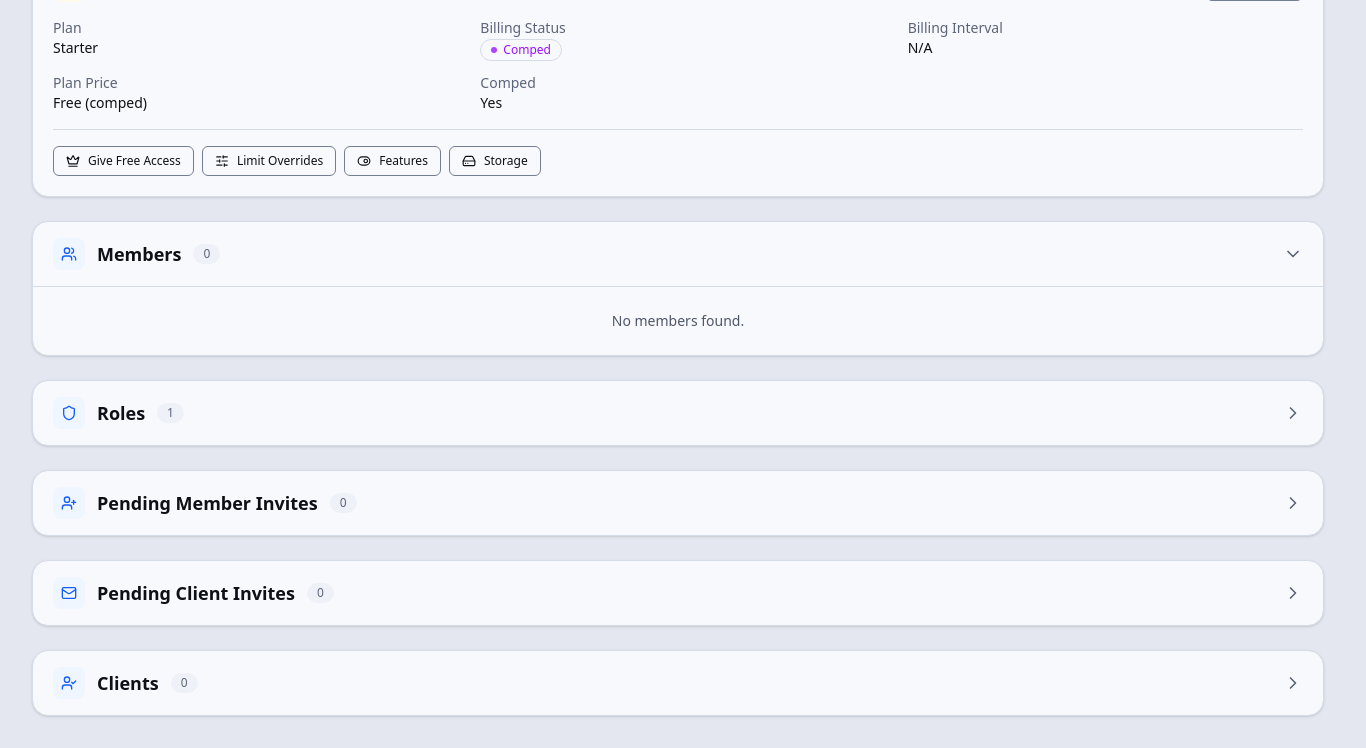
Test: admin firm detail role save › sends the implied reads and shows the normalized role after saving manage invoices
(page scrolled)
Click the button "Roles 1": (69, 413) [33, 381, 1323, 445]
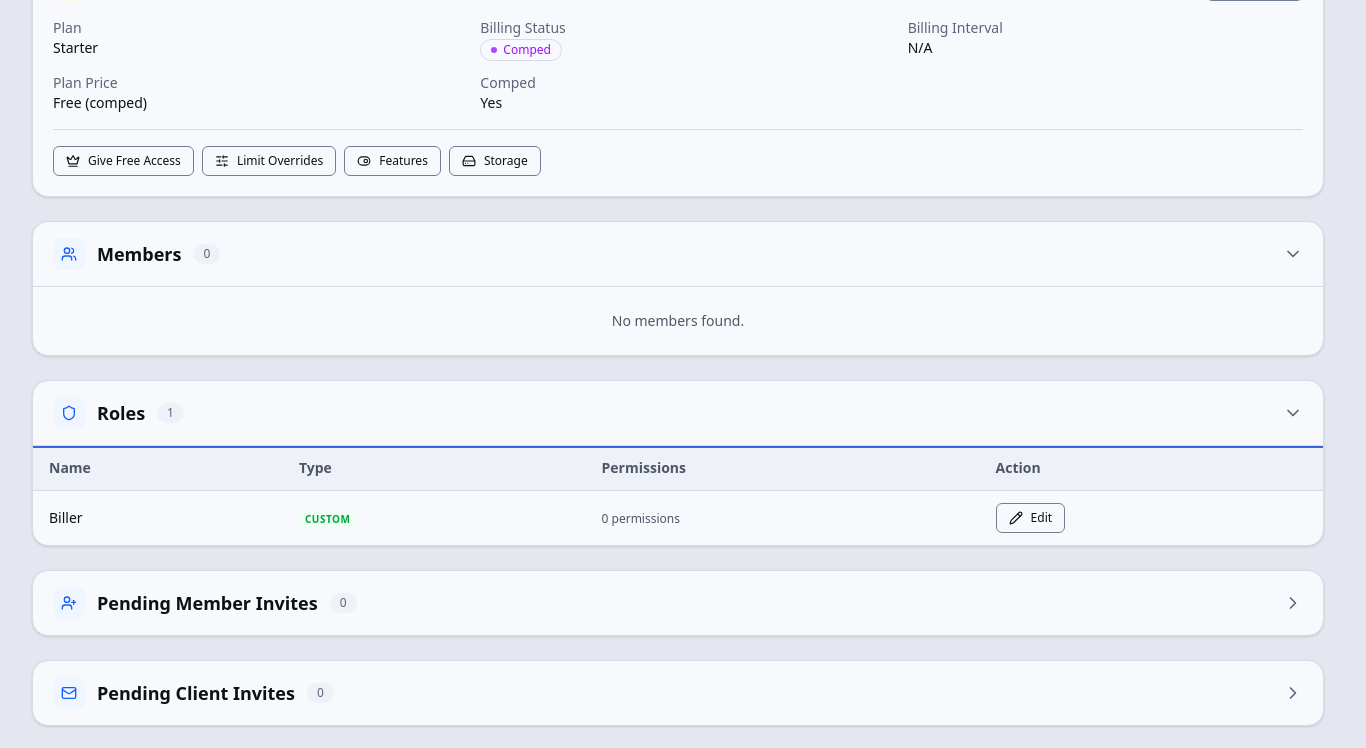
Now the text "0 permissions" is shown, box [602, 510, 680, 527]
Click the button "Edit": (1030, 518) [996, 503, 1065, 533]
(page scrolled)
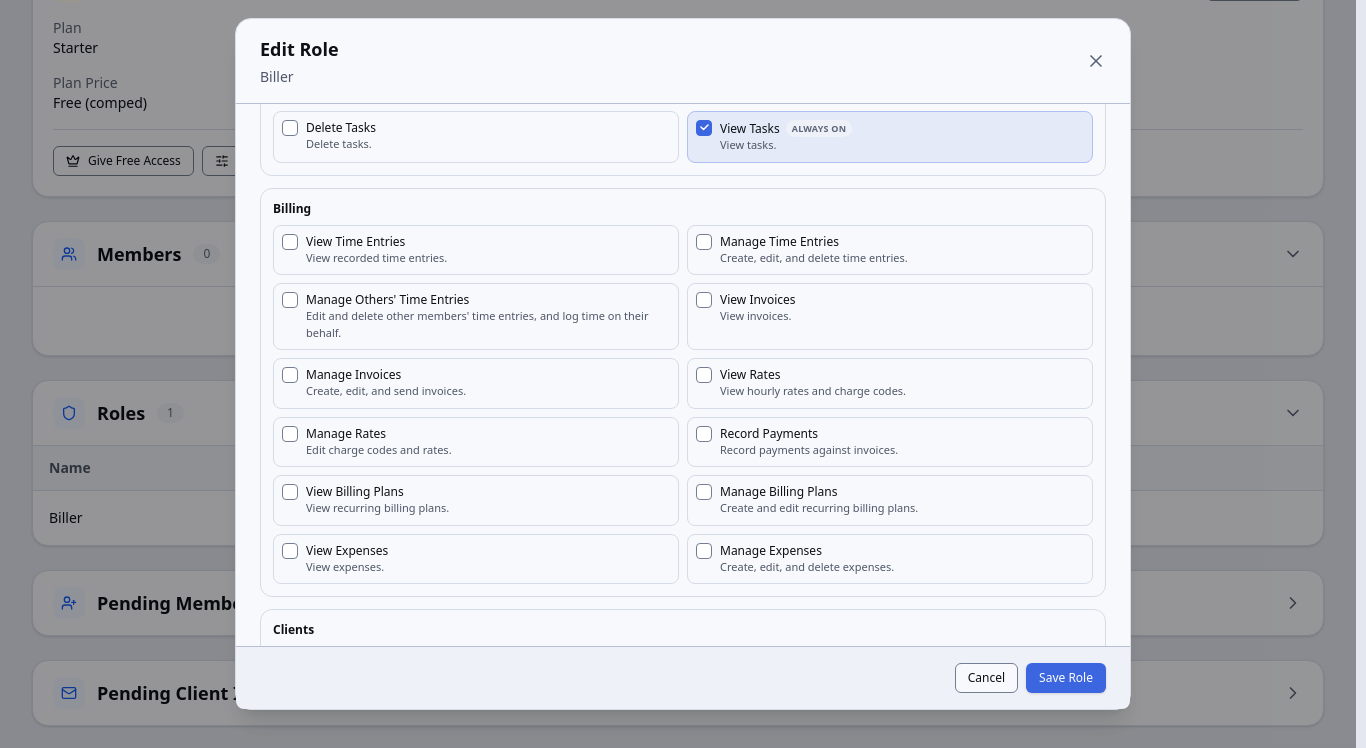
Click the text "Manage Invoices": (354, 375) [306, 367, 401, 383]
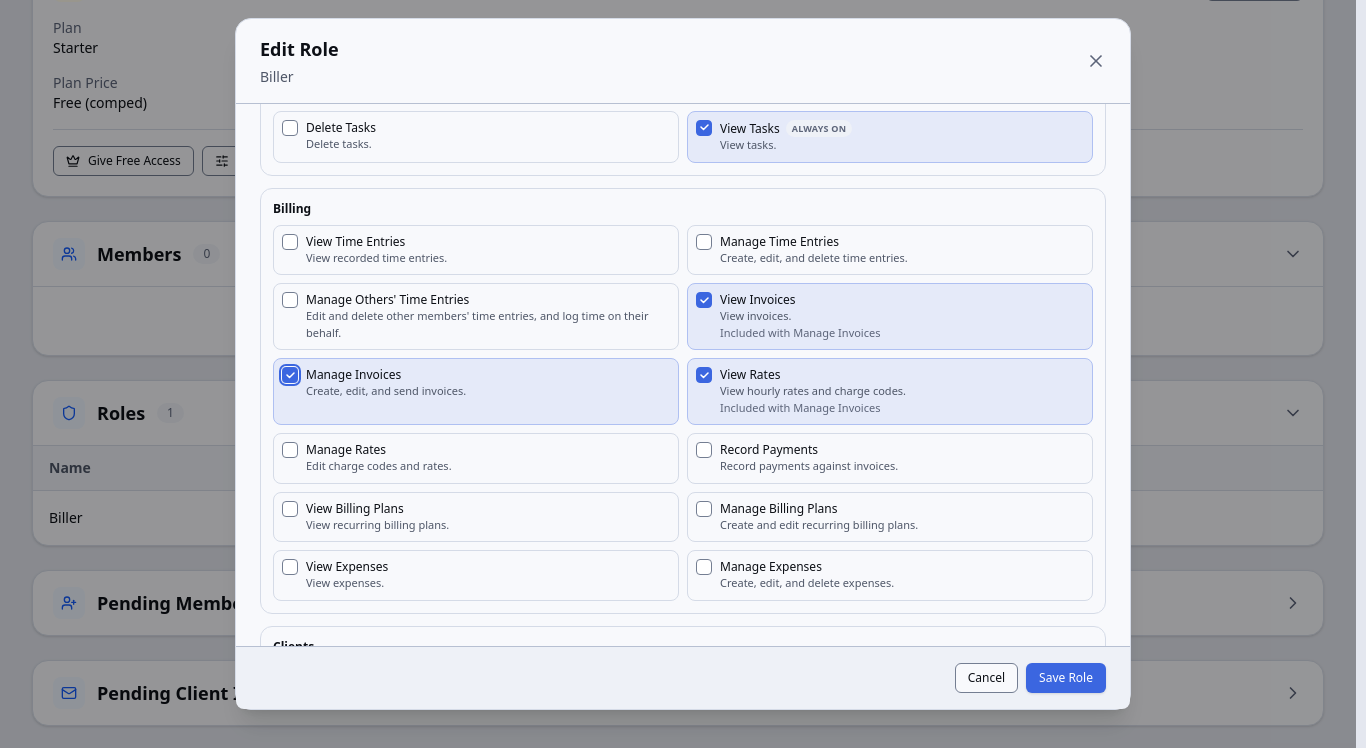
Now the checkbox labelled "Manage Invoices Create, edit, and send invoices." is checked, box [273, 358, 679, 425]
Click the button "Save Role": (1066, 678) [1026, 663, 1106, 693]
(page scrolled)
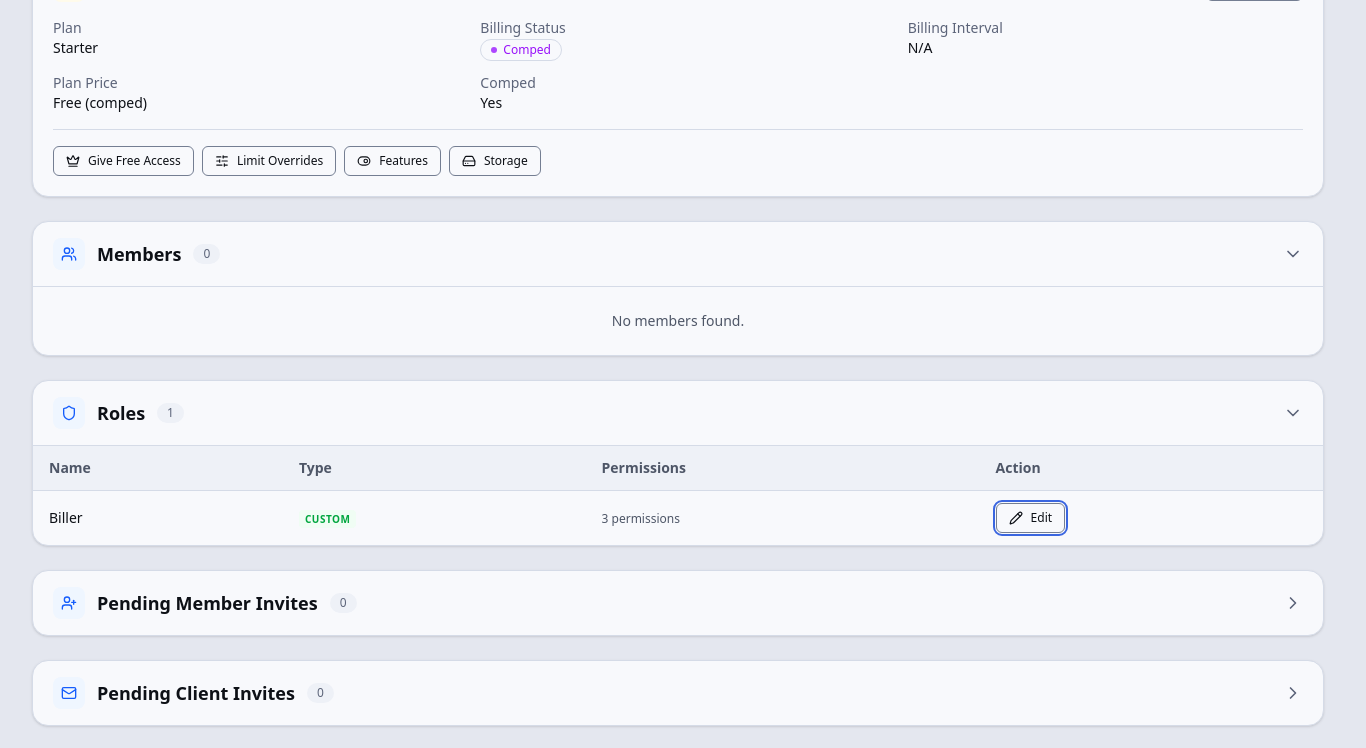
Now the text "3 permissions" is shown, box [602, 510, 680, 527]
Now the text "0 permissions" is gone
